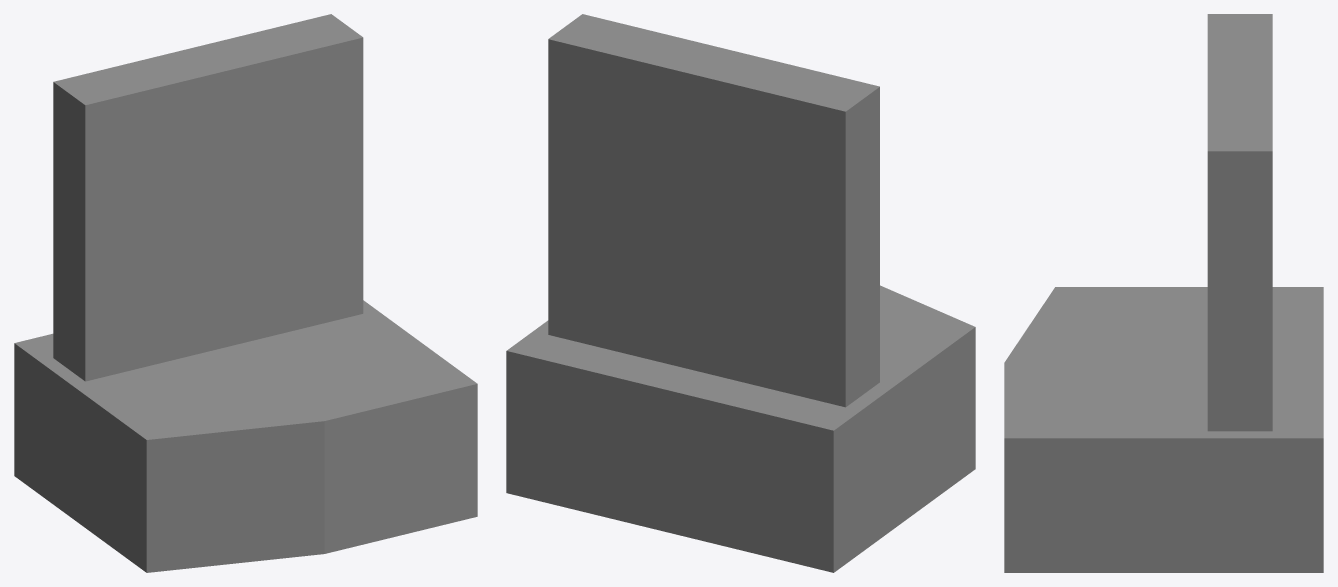
File: headstone_05.fbx
3 views of the same model, side by side, from view 1: azimuth 30°, elevation 25°; view 2: azimuth 150°, elevation 25°; view 3: azimuth 270°, elevation 25° (orthographic). The views are drawn at different scales.
Visible parts, largest first — view 1: headstone_05; view 2: headstone_05; view 3: headstone_05.
Boxes of the visible parts, x1=… form: headstone_05: x1=14, y1=14, x2=477, y2=572; headstone_05: x1=506, y1=14, x2=975, y2=572; headstone_05: x1=1004, y1=14, x2=1323, y2=572.
Size of the model in its own units: 1.06 by 1.35 by 0.942.
